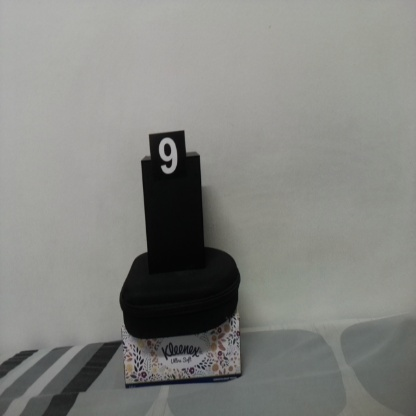id_9: (149, 133, 186, 187)
